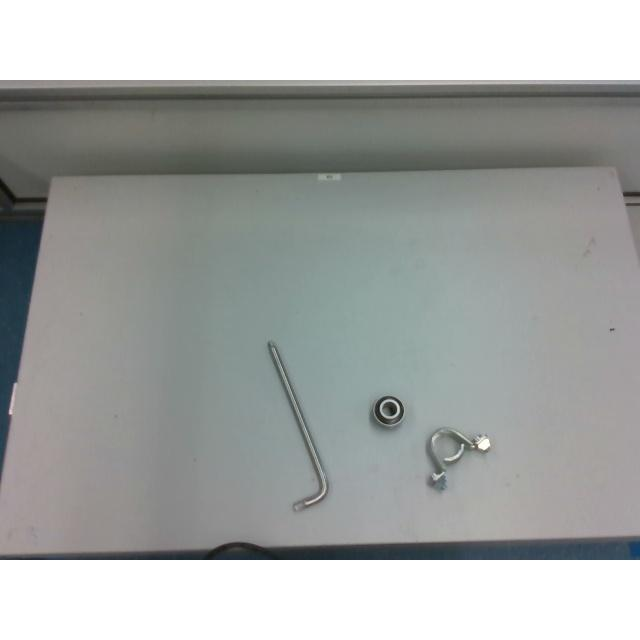AllenKey: (266, 339, 328, 509)
Bearing2: (372, 394, 404, 426)
Housing: (426, 428, 489, 488)
